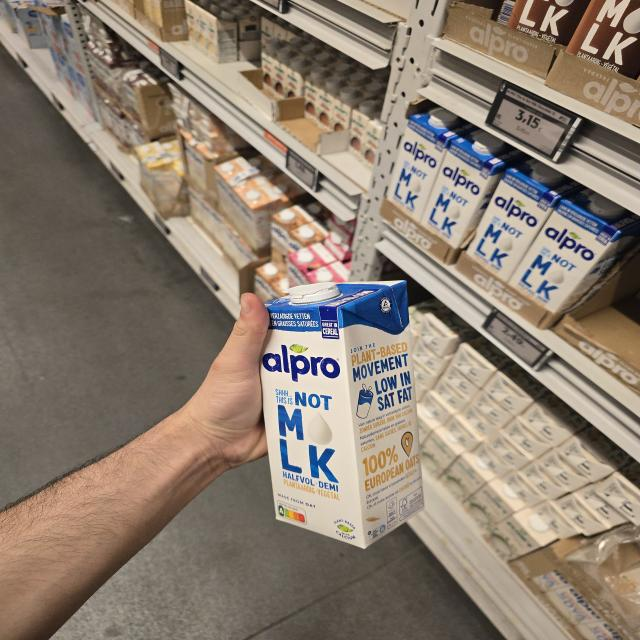Milk: (260, 281, 425, 549), (506, 188, 640, 314), (465, 158, 586, 282), (419, 128, 532, 249), (386, 106, 479, 223)
